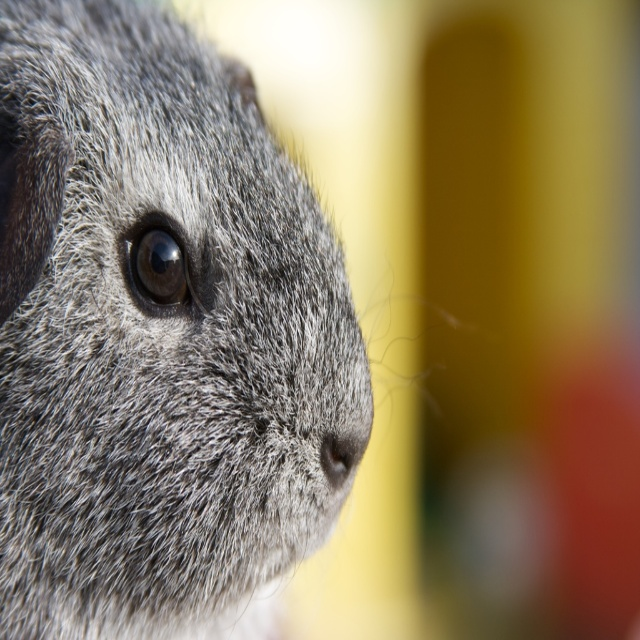Rabbit: (0, 0, 480, 639)
